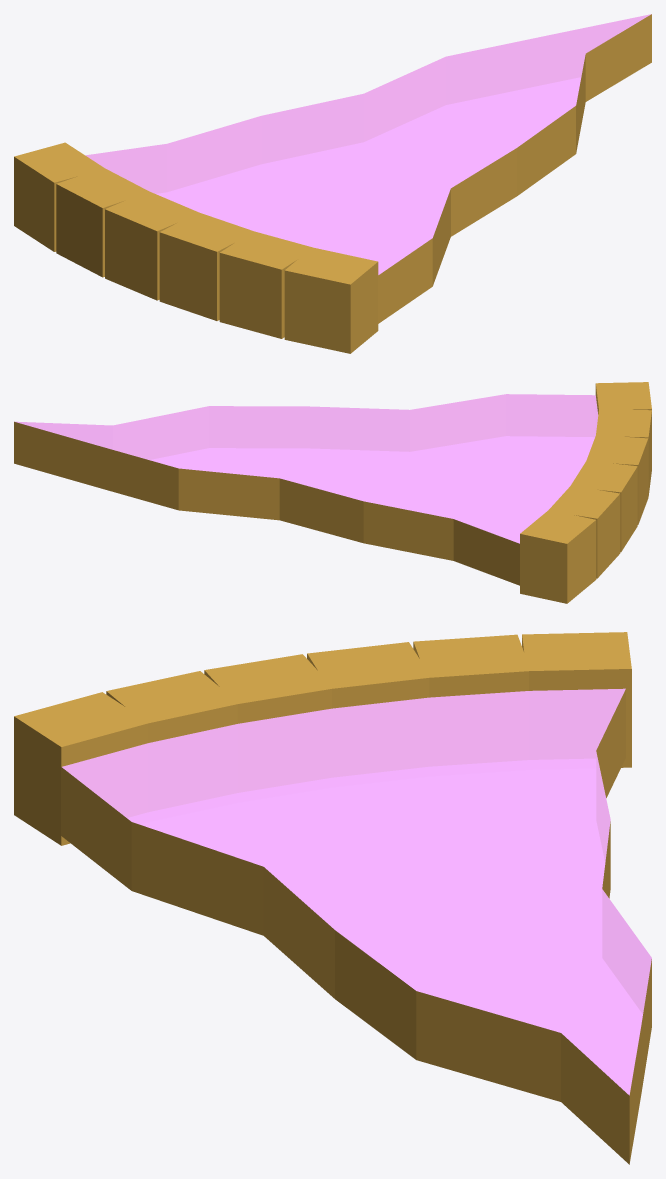
File: prop_compass_piece_06_v01.glb
3 views of the same model, one above another, from view 1: azimuth 30°, elevation 25°; view 2: azimuth 150°, elevation 25°; view 3: azimuth 270°, elevation 25° (orthographic). The views are drawn at different scales.
Visible parts, largest first — view 1: piece_06; view 2: piece_06; view 3: piece_06.
Boxes of the visible parts, x1,y1,x2,y2 form: piece_06: (14,14,651,353); piece_06: (14,382,651,603); piece_06: (14,632,651,1164).
Bounding box in the file's own units: 0.482 × 0.05 × 0.2927.
